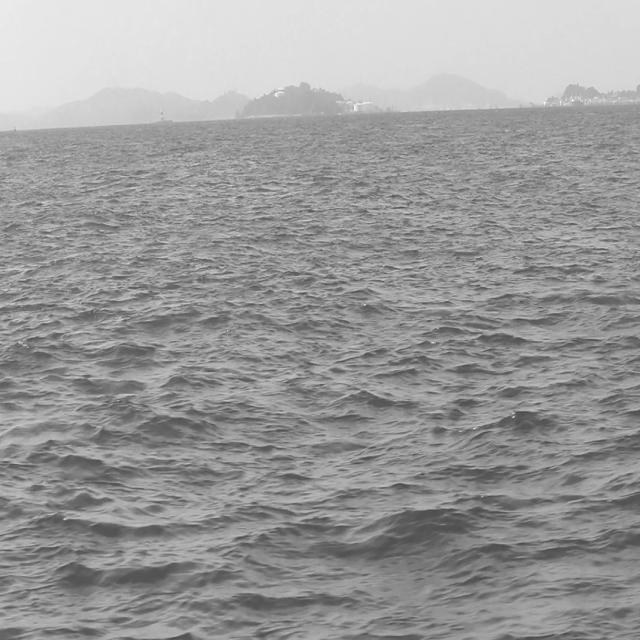boat: (152, 100, 173, 125)
